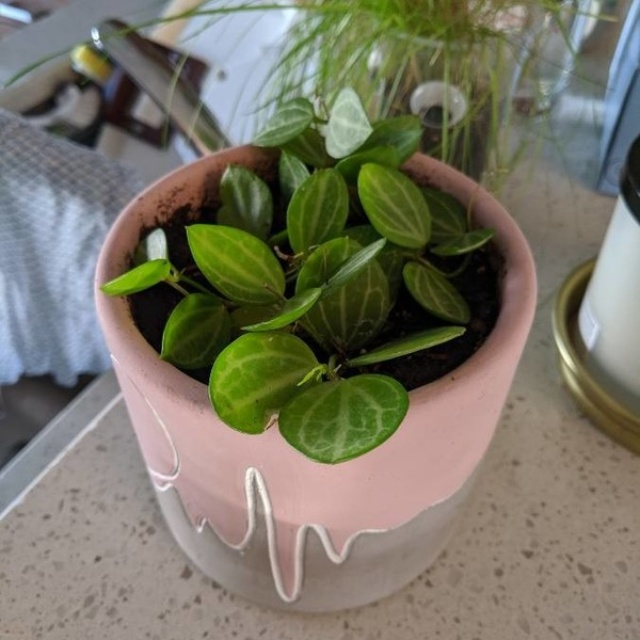obstacle: (79, 84, 538, 608)
